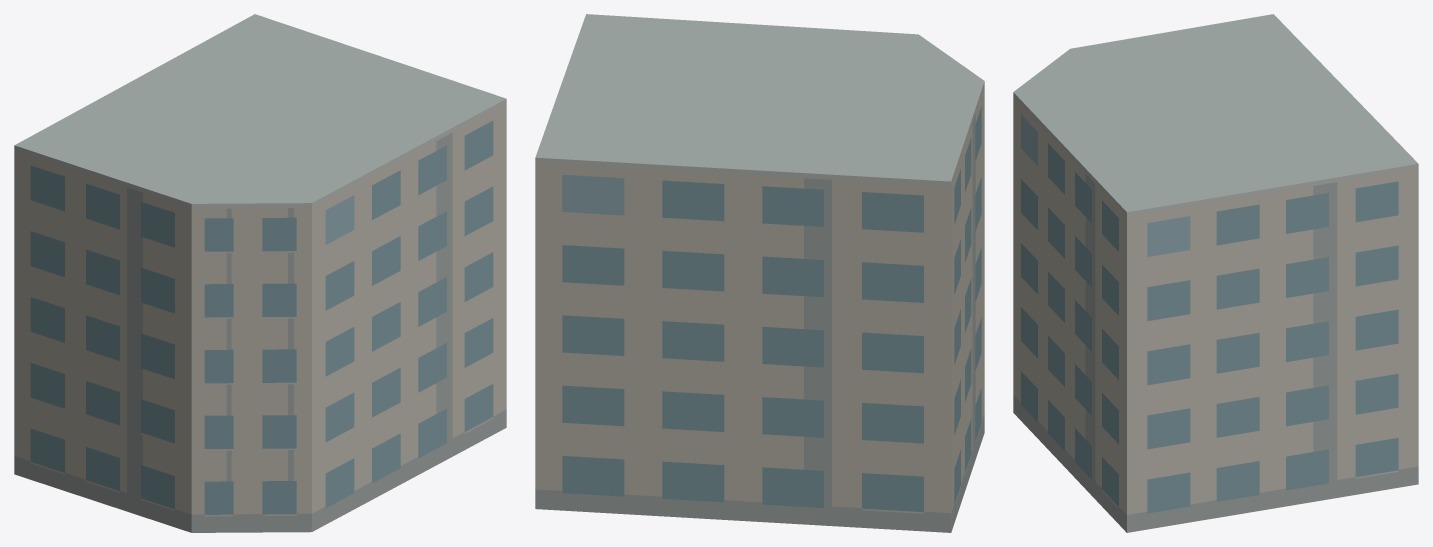
The model's file is survey-upis-32487535.glb.
The picture shows the model from 3 angles, left to right: view 1: azimuth 30°, elevation 25°; view 2: azimuth 150°, elevation 25°; view 3: azimuth 270°, elevation 25°; orthographic projection. The views are drawn at different scales.
Parts seen in each view (by area): view 1: survey-upis-32487535.tmp; view 2: survey-upis-32487535.tmp; view 3: survey-upis-32487535.tmp.
Boxes of the visible parts, x1,y1,x2,y2 form: survey-upis-32487535.tmp: [14, 14, 506, 532]; survey-upis-32487535.tmp: [535, 14, 984, 532]; survey-upis-32487535.tmp: [1013, 14, 1418, 532].
Size of the model in its own units: 21.9 by 16.5 by 18.92.
